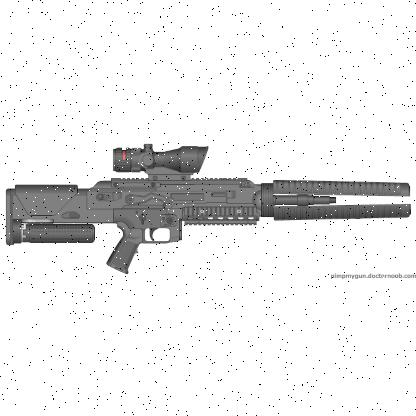gun: (11, 150, 393, 272)
